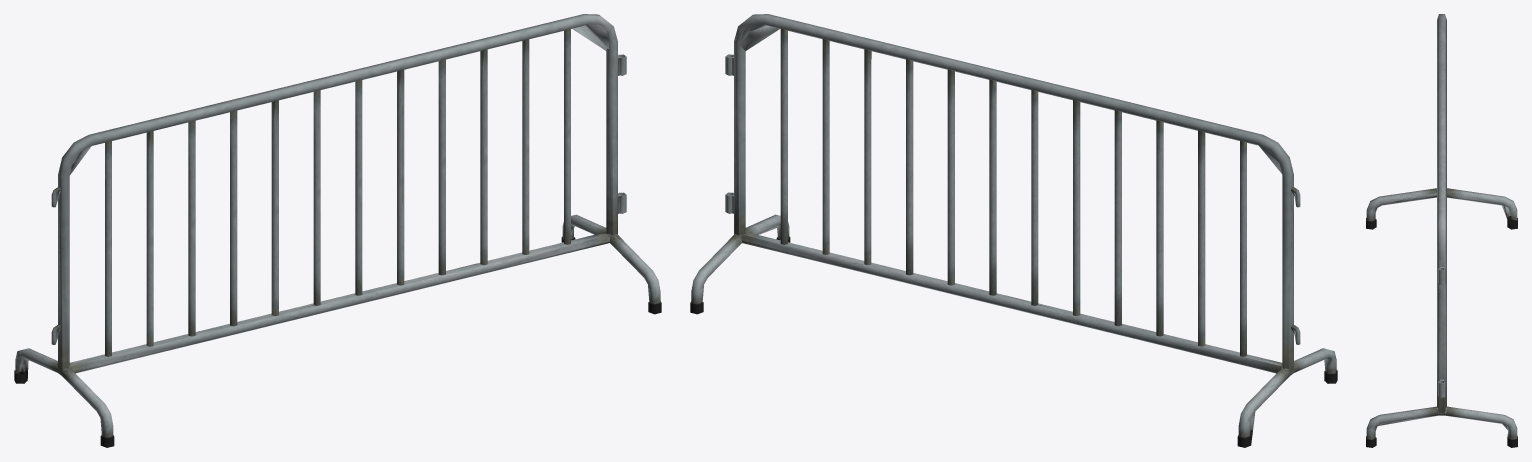
File: Fence.fbx
3 views of the same model, side by side, from view 1: azimuth 30°, elevation 25°; view 2: azimuth 150°, elevation 25°; view 3: azimuth 270°, elevation 25° (orthographic). The views are drawn at different scales.
Parts seen in each view (by area): view 1: Fence__Lod:0, Fence__Lod:1, Fence__Lod:3, Fence__Lod:2; view 2: Fence__Lod:1, Fence__Lod:0, Fence__Lod:3, Fence__Lod:2; view 3: Fence__Lod:1, Fence__Lod:0, Fence__Lod:2, Fence__Lod:3.
Part boxes in pixels (<box>): Fence__Lod:0: <box>14,14,661,447</box>; Fence__Lod:1: <box>14,14,661,447</box>; Fence__Lod:3: <box>16,24,653,436</box>; Fence__Lod:2: <box>18,40,652,447</box>; Fence__Lod:1: <box>690,14,1337,447</box>; Fence__Lod:0: <box>690,14,1337,447</box>; Fence__Lod:3: <box>739,26,1336,442</box>; Fence__Lod:2: <box>694,24,1337,411</box>; Fence__Lod:1: <box>1366,14,1517,447</box>; Fence__Lod:0: <box>1366,14,1517,447</box>; Fence__Lod:2: <box>1367,15,1516,437</box>; Fence__Lod:3: <box>1373,44,1511,437</box>.
Bounding box in the file's own units: 238 × 108 × 66.97.
